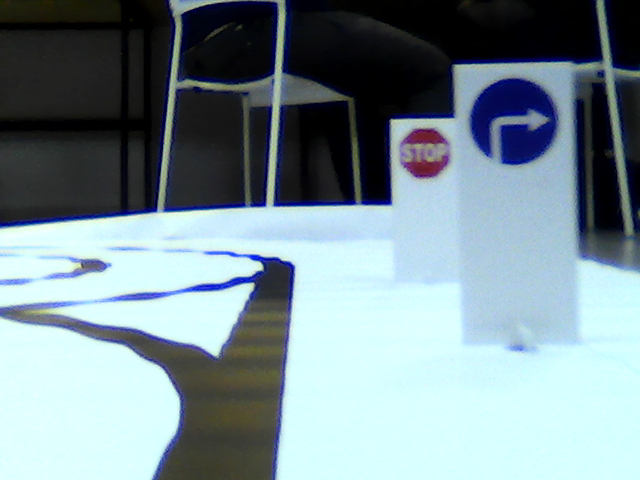Right: (464, 74, 562, 162)
Stop: (395, 123, 453, 185)
